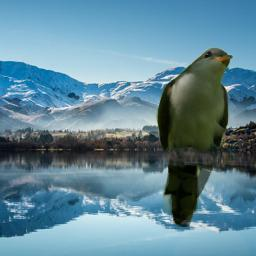Cuckoo: (156, 47, 234, 227)
